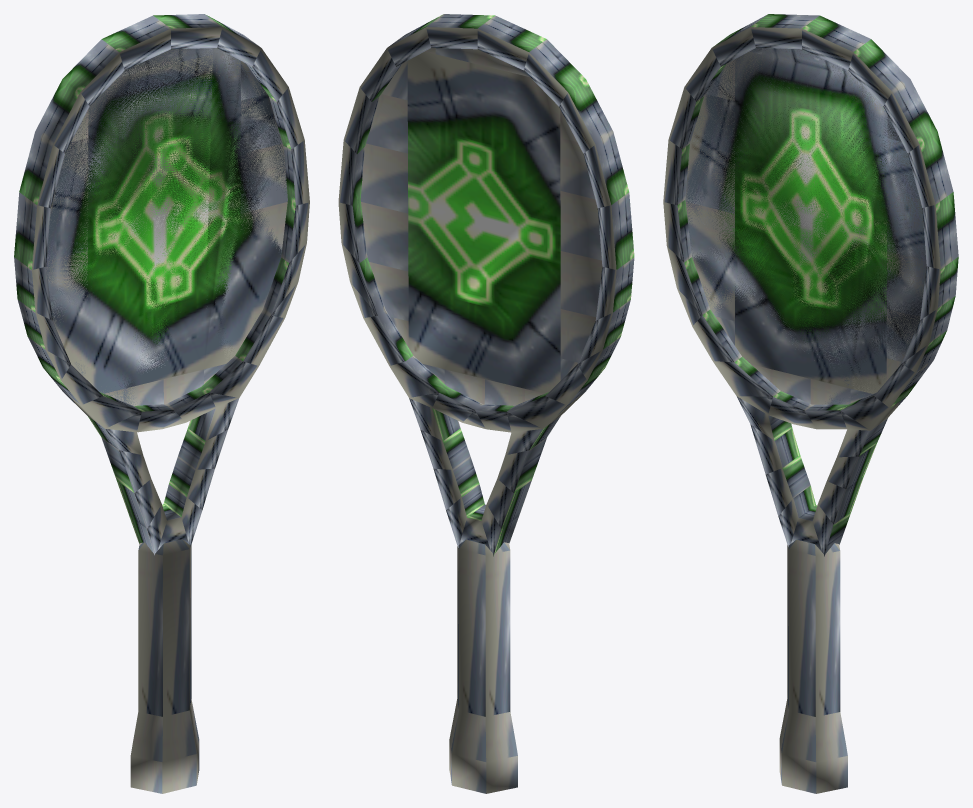
The model's file is ICON.ICO.obj.
3 views of the same model, side by side, from view 1: azimuth 30°, elevation 25°; view 2: azimuth 150°, elevation 25°; view 3: azimuth 330°, elevation 25° (orthographic).
Size of the model in its own units: 1.42 by 3.69 by 0.2593.
